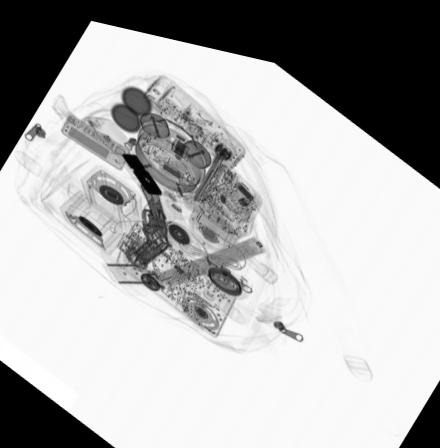Knife: (138, 175, 168, 235)
